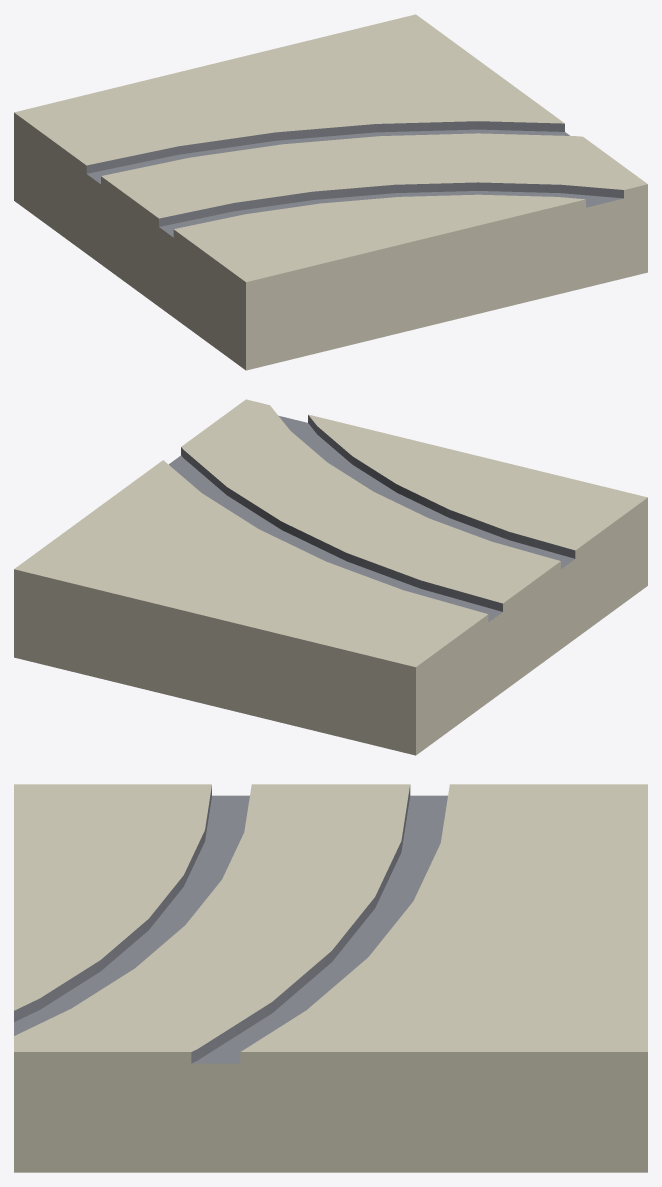
Rendered from tile287.fbx.
The picture shows the model from 3 angles, top to bottom: view 1: azimuth 30°, elevation 25°; view 2: azimuth 150°, elevation 25°; view 3: azimuth 270°, elevation 25°; orthographic projection. The views are drawn at different scales.
Visible parts, largest first — view 1: tile287; view 2: tile287; view 3: tile287.
Boxes of the visible parts, x1,y1,x2,y2 form: tile287: (14, 14, 647, 370); tile287: (14, 399, 647, 755); tile287: (14, 784, 647, 1172).
Bounding box in the file's own units: 10 × 2.1 × 10.
